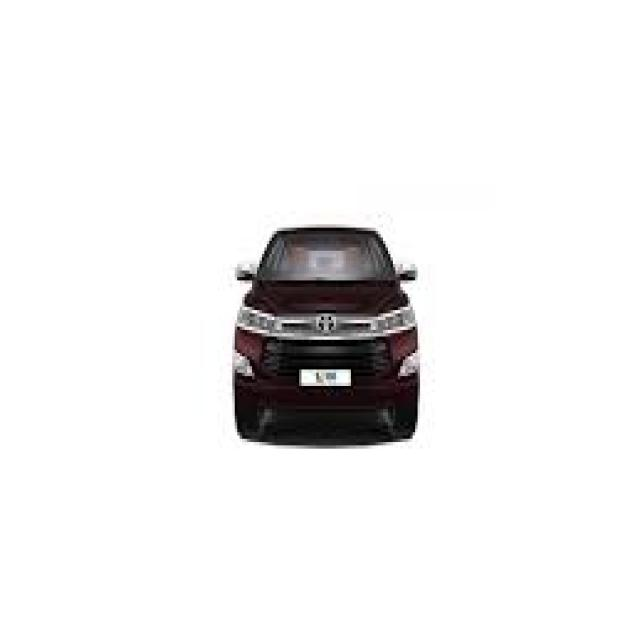light_vehicle: (232, 226, 421, 438)
